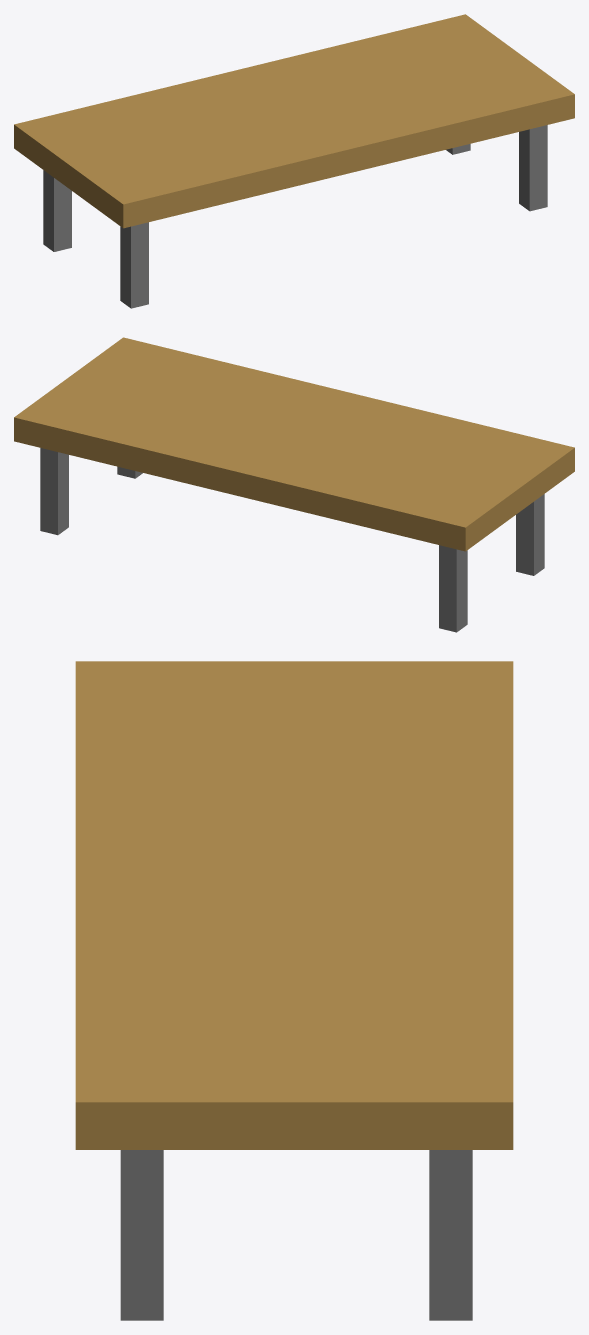
Rendered from table.fbx.
3 views of the same model, one above another, from view 1: azimuth 30°, elevation 25°; view 2: azimuth 150°, elevation 25°; view 3: azimuth 270°, elevation 25° (orthographic). The views are drawn at different scales.
Parts seen in each view (by area): view 1: Cube.003; view 2: Cube.003; view 3: Cube.003.
Part boxes in pixels (x1,y1,x2,y2): Cube.003: [14, 14, 574, 308]; Cube.003: [14, 337, 574, 632]; Cube.003: [75, 661, 513, 1320].
Size of the model in its own units: 955 by 237 by 401.
